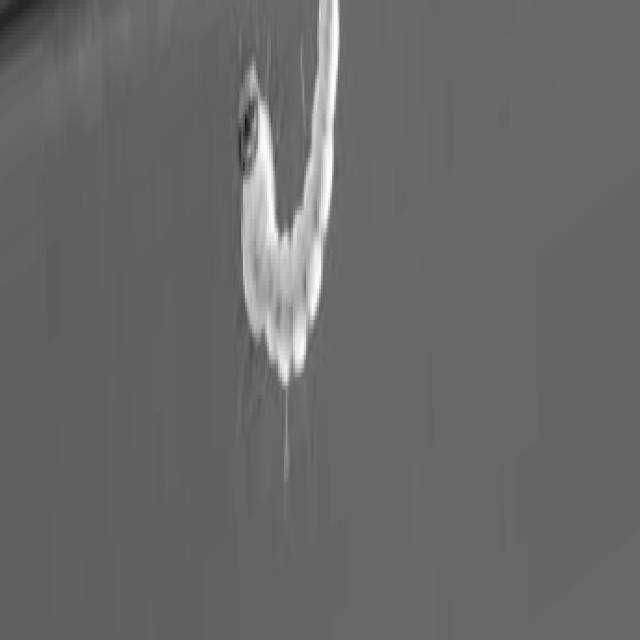larvas: (235, 0, 341, 381)
